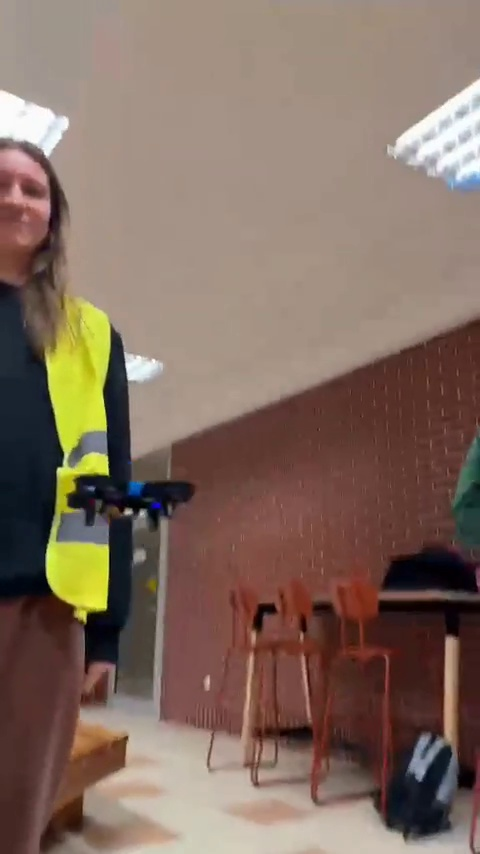drone: (69, 475, 204, 529)
vest: (0, 127, 143, 848)
